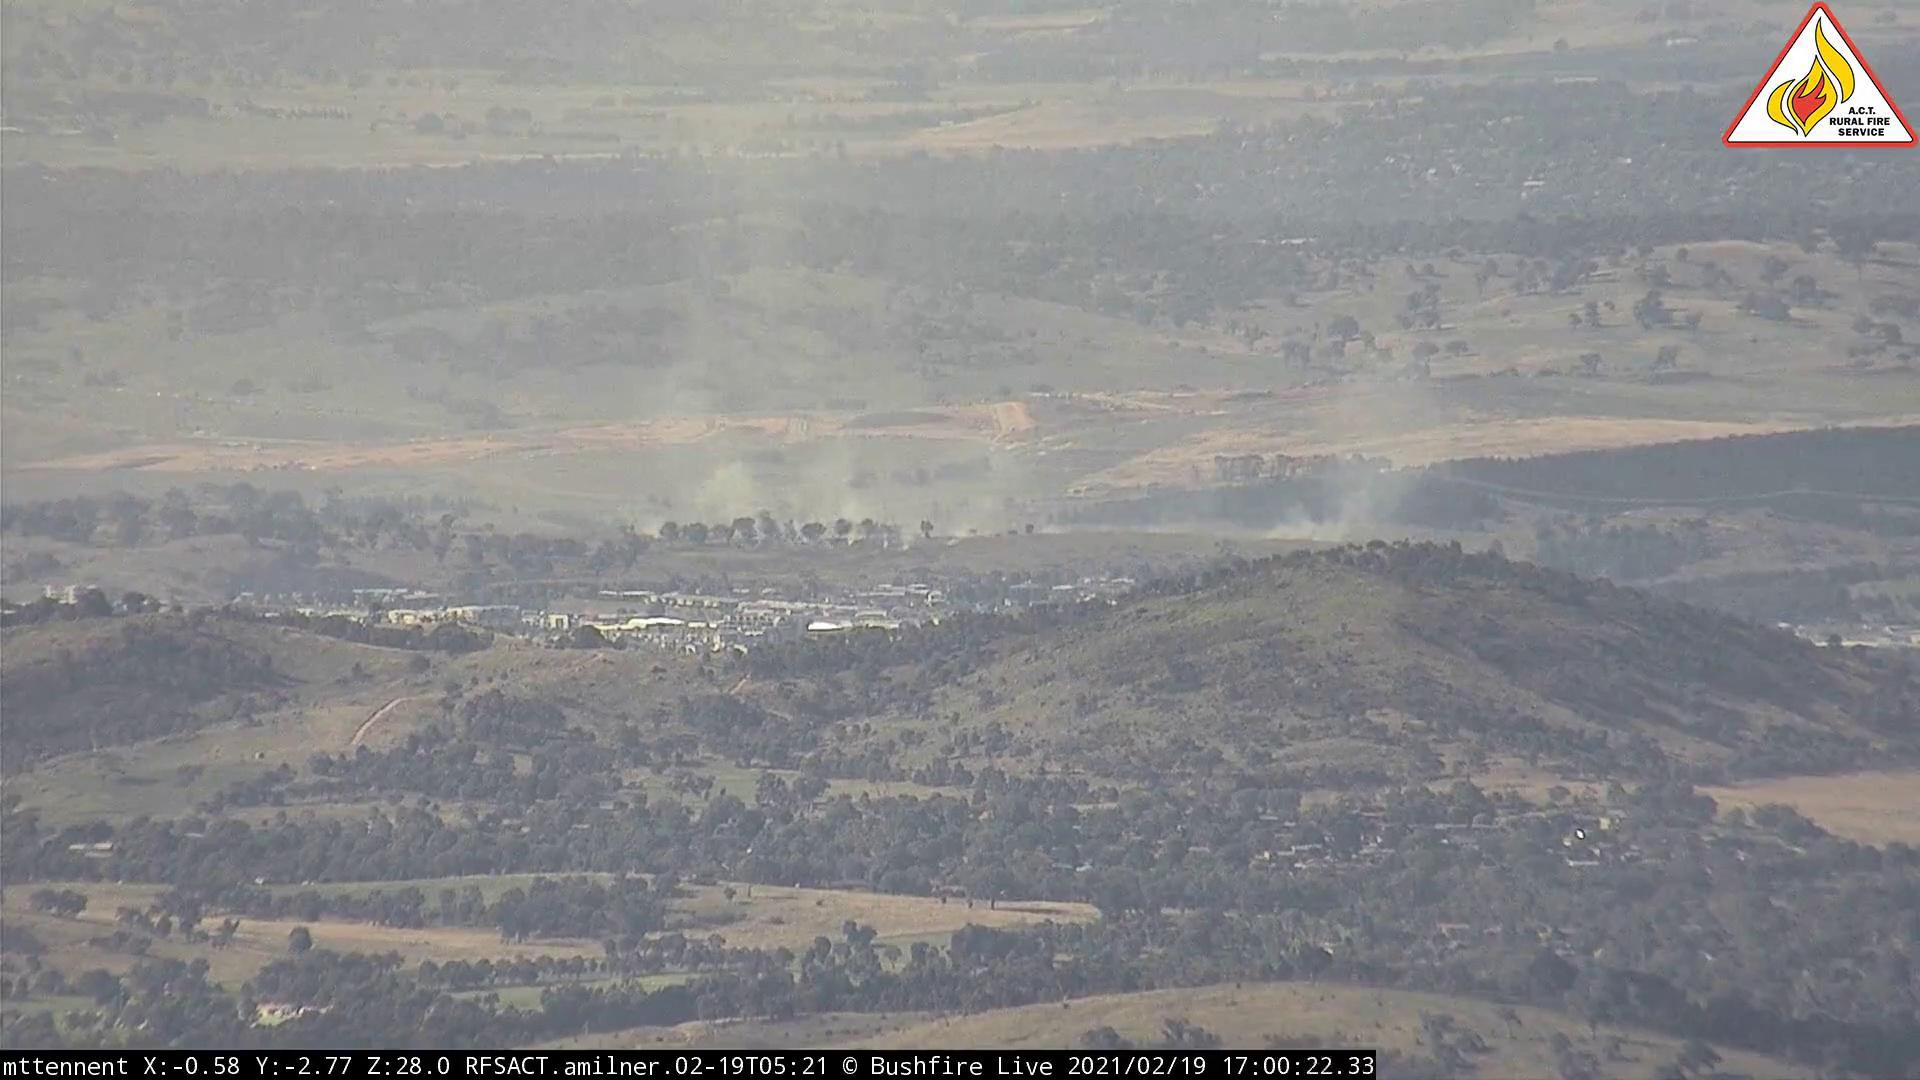Smoke: (642, 324, 1031, 546), (1212, 364, 1447, 541)
